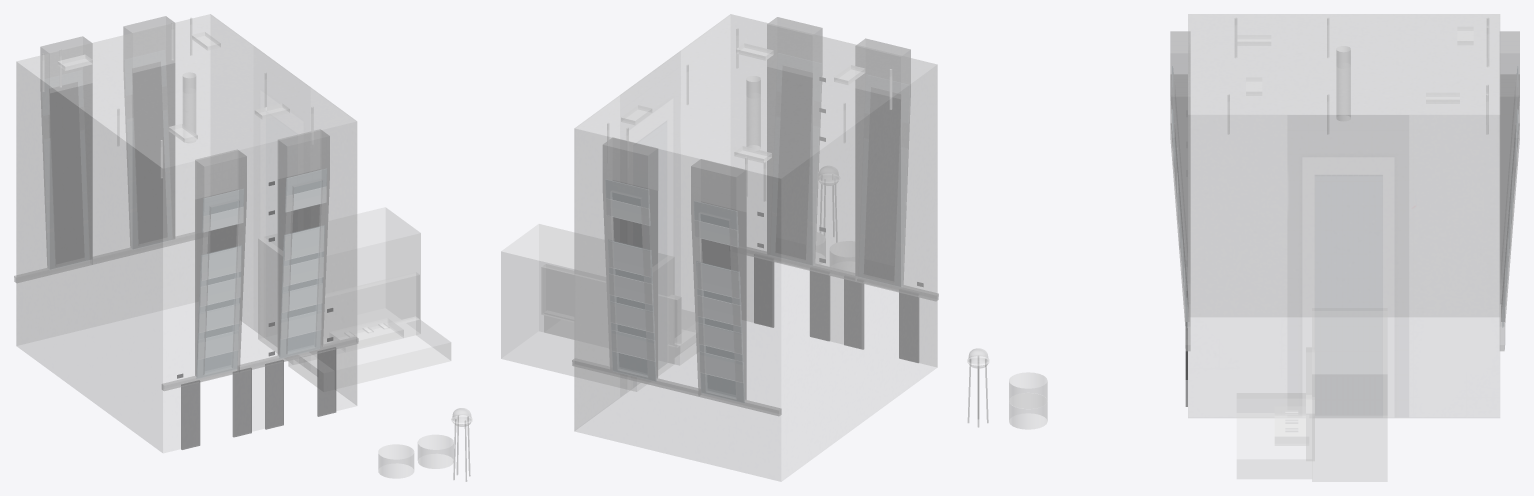
File: VAB.glb
The picture shows the model from 3 angles, left to right: view 1: azimuth 30°, elevation 25°; view 2: azimuth 150°, elevation 25°; view 3: azimuth 270°, elevation 25°; orthographic projection. The views are drawn at different scales.
Parts seen in each view (by area): view 1: Vehicle Assembly Building (VAB); view 2: Vehicle Assembly Building (VAB); view 3: Vehicle Assembly Building (VAB).
Part boxes in pixels (bbox=[...]): Vehicle Assembly Building (VAB): bbox=[14, 14, 472, 481]; Vehicle Assembly Building (VAB): bbox=[501, 14, 938, 481]; Vehicle Assembly Building (VAB): bbox=[967, 14, 1519, 481].
Size of the model in its own units: 15.01 by 13.7 by 21.34.
9 materials, 2 textured.
